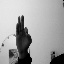f: (15, 14, 33, 54)
